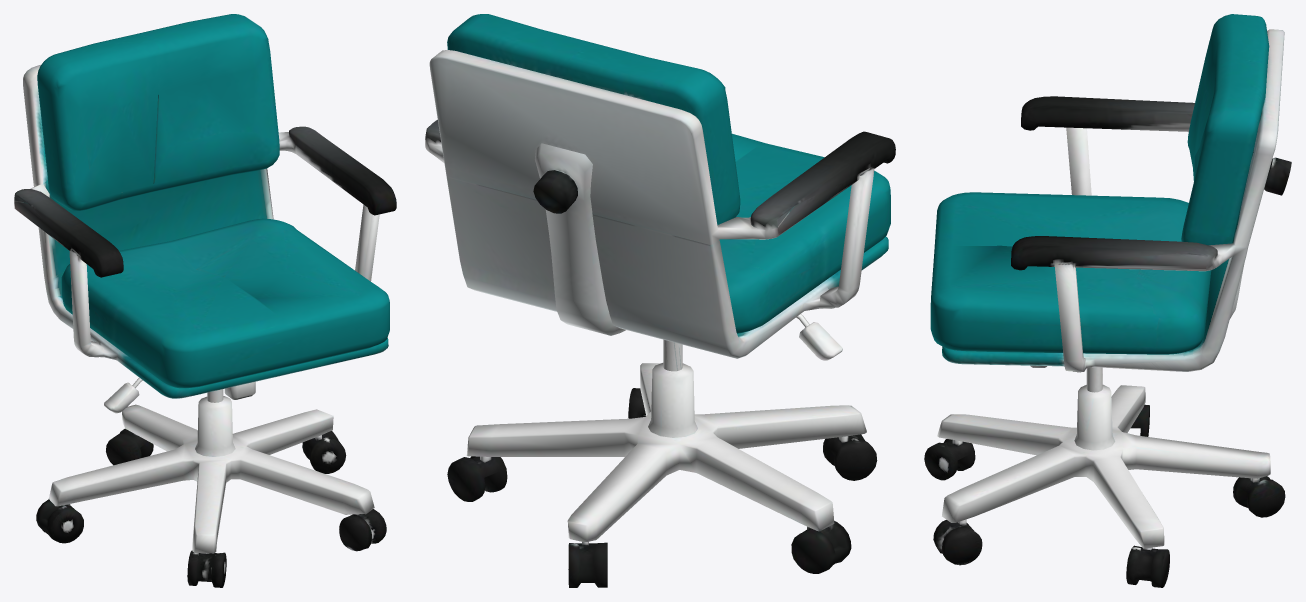
Rendered from Bank_OfficeChair.glb.
3 renders of one model, left to right at view 1: azimuth 30°, elevation 25°; view 2: azimuth 150°, elevation 25°; view 3: azimuth 270°, elevation 25°, orthographic. The views are drawn at different scales.
Visible parts, largest first — view 1: tripo_node_80cdb3d6-e736-45cc-b2da-1c2437dc41f3; view 2: tripo_node_80cdb3d6-e736-45cc-b2da-1c2437dc41f3; view 3: tripo_node_80cdb3d6-e736-45cc-b2da-1c2437dc41f3.
Part boxes in pixels (x1,y1,x2,y2): tripo_node_80cdb3d6-e736-45cc-b2da-1c2437dc41f3: (14,14,396,587); tripo_node_80cdb3d6-e736-45cc-b2da-1c2437dc41f3: (425,14,895,587); tripo_node_80cdb3d6-e736-45cc-b2da-1c2437dc41f3: (924,14,1291,587).
Bounding box in the file's own units: 0.7509 × 1 × 0.7284.
1 material, 1 textured.
